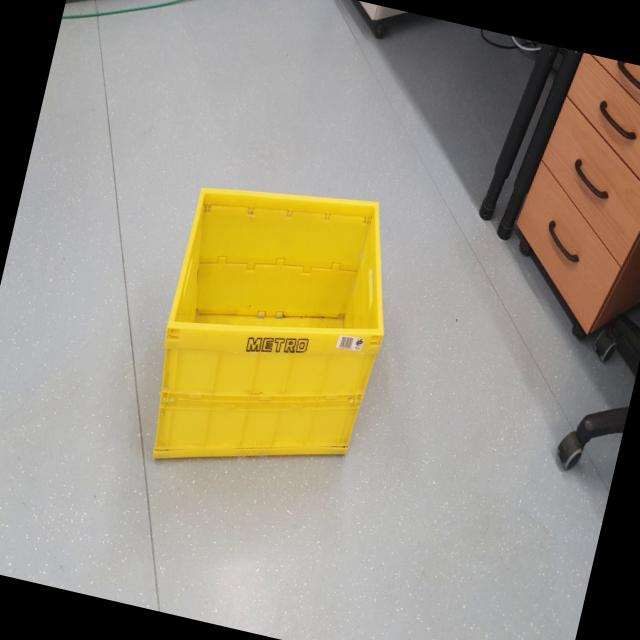box: (121, 138, 424, 522)
